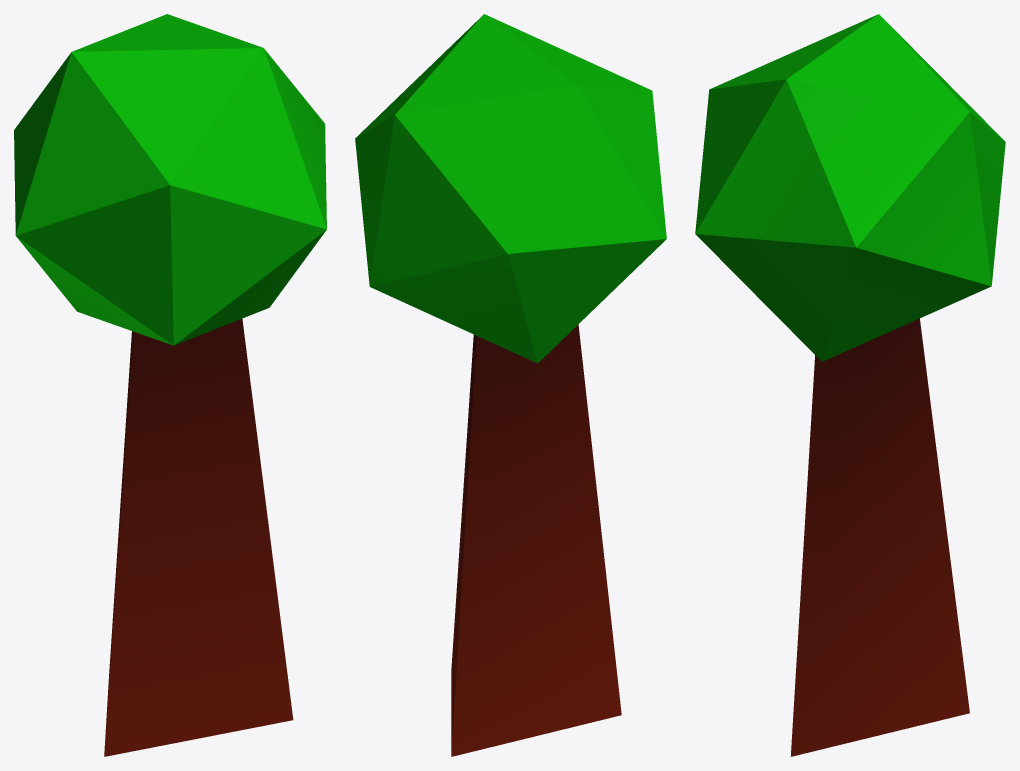
Rendered from tree7.fbx.
3 renders of one model, left to right at view 1: azimuth 30°, elevation 25°; view 2: azimuth 150°, elevation 25°; view 3: azimuth 270°, elevation 25°, orthographic. The views are drawn at different scales.
Parts seen in each view (by area): view 1: tree; view 2: tree; view 3: tree.
Boxes of the visible parts, x1=… form: tree: x1=14, y1=14, x2=326, y2=756; tree: x1=355, y1=14, x2=666, y2=756; tree: x1=695, y1=14, x2=1005, y2=756.
Size of the model in its own units: 296 by 612 by 260.
